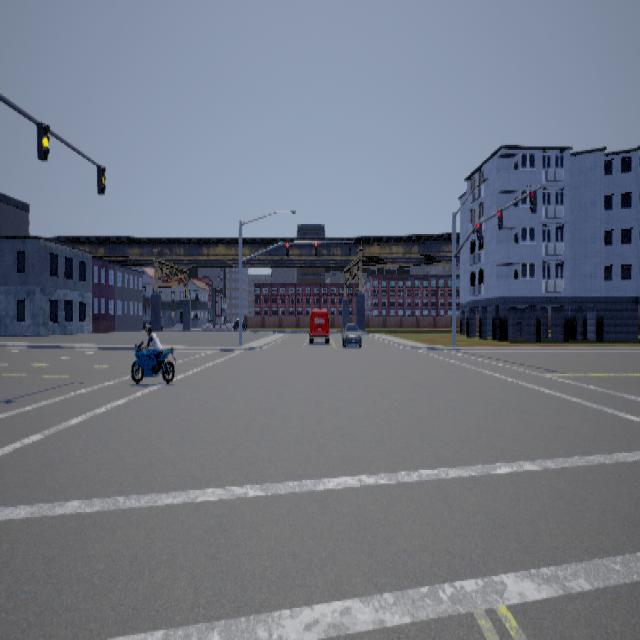motobike: (132, 338, 177, 382)
red_light: (530, 189, 538, 212), (498, 207, 504, 229), (477, 221, 483, 239), (287, 241, 290, 256), (316, 241, 319, 254), (350, 241, 352, 254)
vehicle: (310, 308, 331, 344), (343, 322, 363, 347)
yellow_light: (38, 120, 51, 160), (98, 163, 107, 194)
